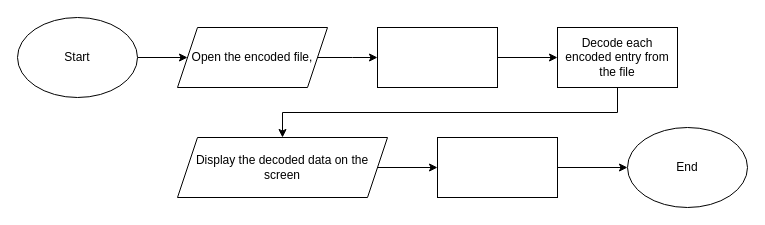
Some shapes in this 765 by 225 pixel diagram are drawn without their labels. The centre of each missing label's shape, as x and y in pixels:
"Calculate the compression ratio attribute" belongs at [497,167].
"Read each encoded entry from the file" belongs at [437,57].
